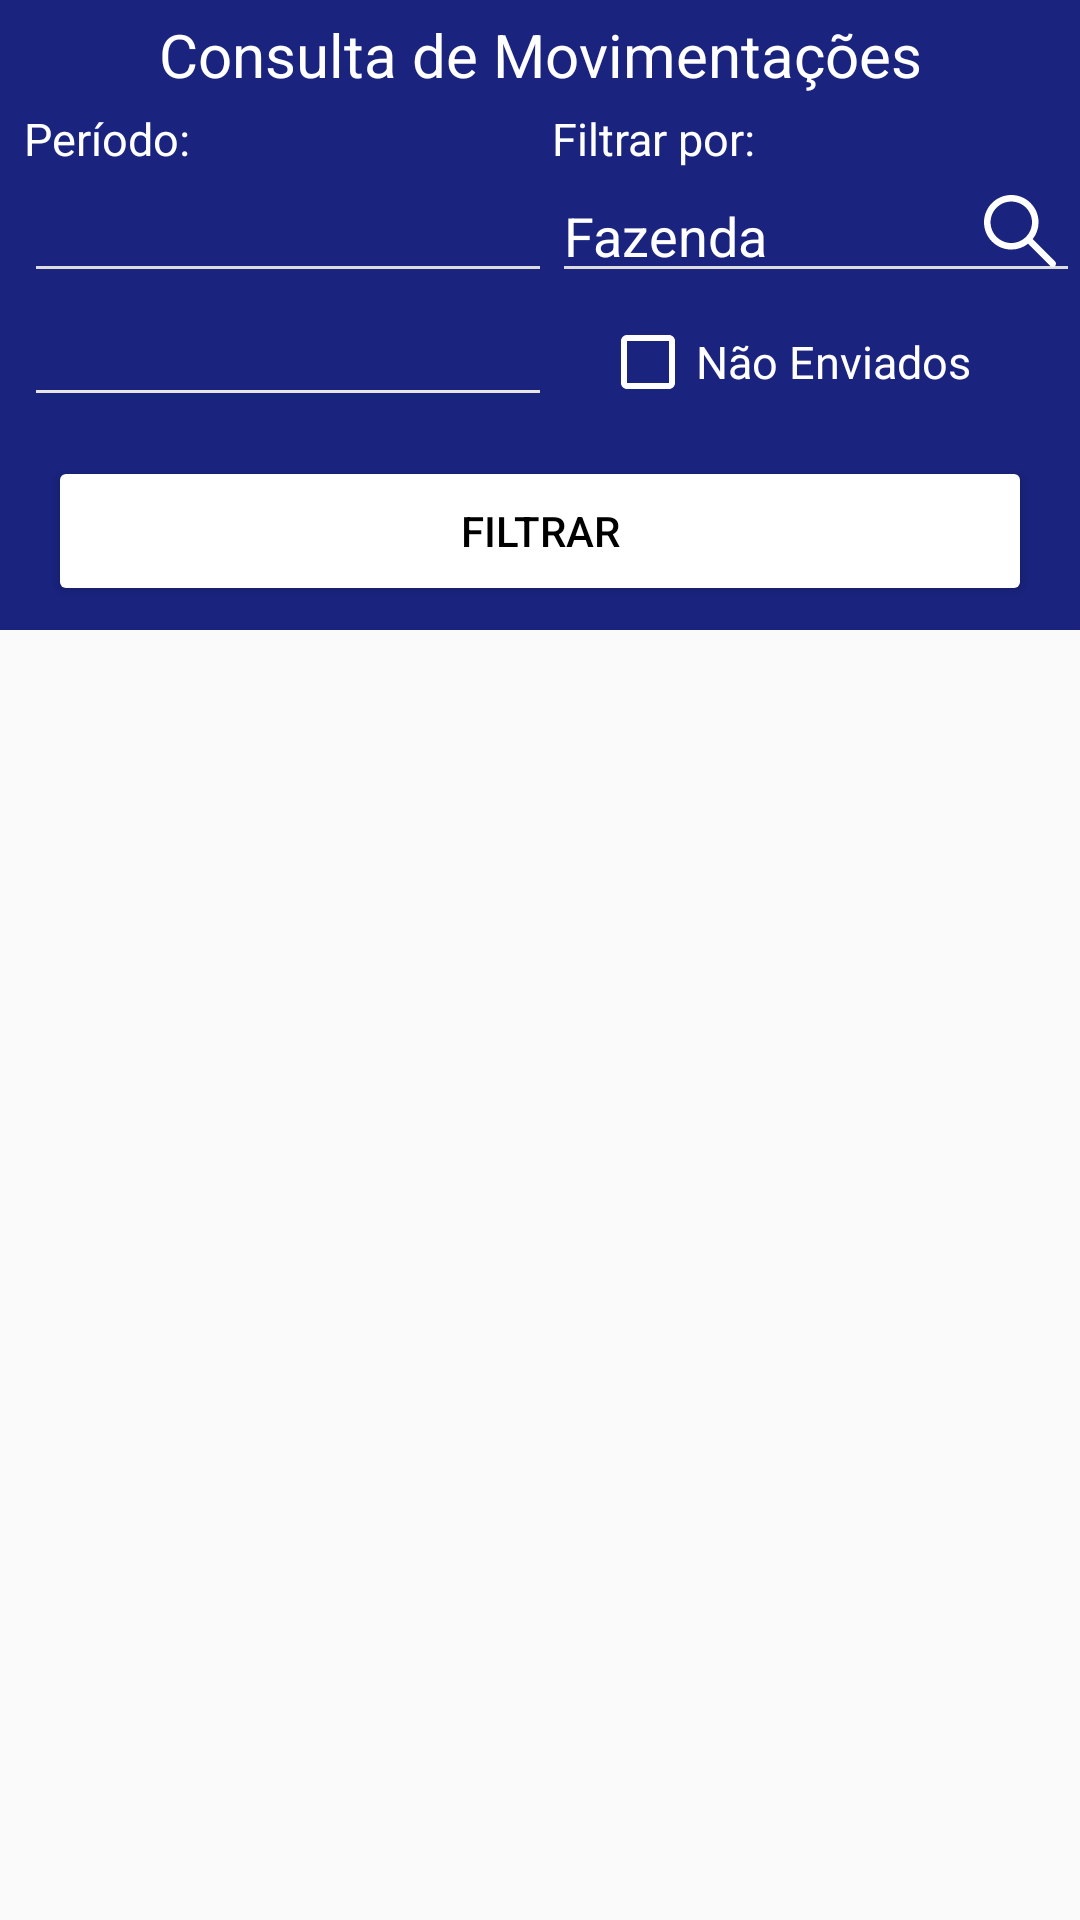

Icons on this 1080x1920 Android screen, each with its box as (x1, y1, x2, y2):
pesquisa: (984, 195, 1056, 267)
